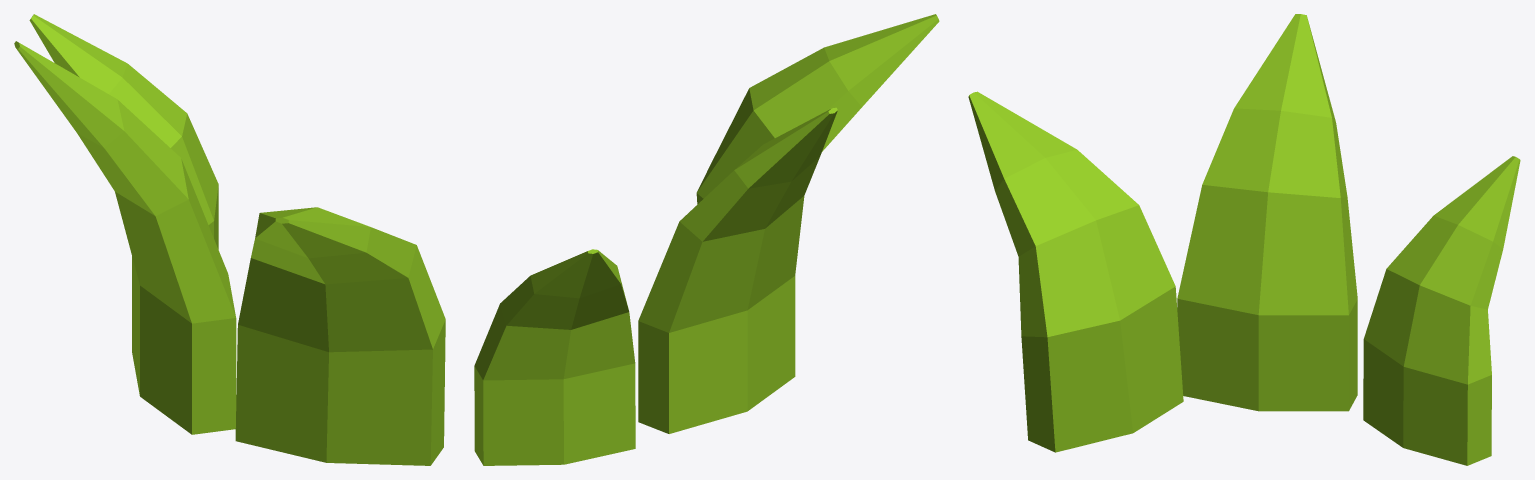
The model's file is GRASS BLADES.fbx.
3 views of the same model, side by side, from view 1: azimuth 30°, elevation 25°; view 2: azimuth 150°, elevation 25°; view 3: azimuth 270°, elevation 25° (orthographic). The views are drawn at different scales.
Parts seen in each view (by area): view 1: pCylinder2, pCylinder1, pCylinder3; view 2: pCylinder1, pCylinder3, pCylinder2; view 3: pCylinder1, pCylinder2, pCylinder3.
Part boxes in pixels (left/top/right/bottom): pCylinder2: left=235, top=207, right=445, bottom=465; pCylinder1: left=14, top=41, right=236, bottom=434; pCylinder3: left=29, top=14, right=218, bottom=249; pCylinder1: left=638, top=107, right=837, bottom=433; pCylinder3: left=474, top=249, right=635, bottom=465; pCylinder2: left=696, top=14, right=939, bottom=204; pCylinder1: left=1177, top=14, right=1357, bottom=411; pCylinder2: left=968, top=91, right=1183, bottom=452; pCylinder3: left=1363, top=156, right=1520, bottom=465.
Bounding box in the file's own units: 2.36 × 2.84 × 4.35.
